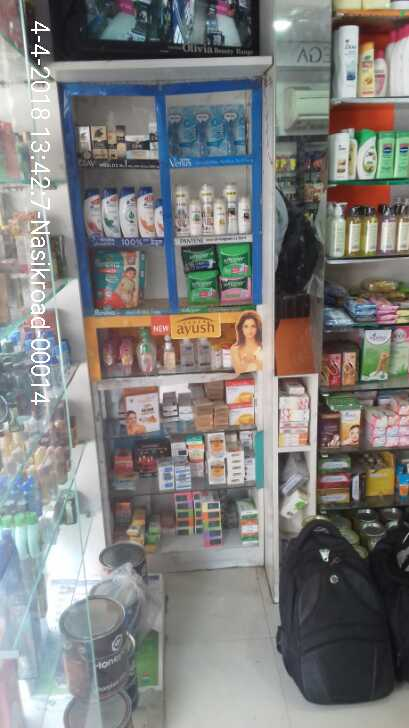venus: (189, 105, 218, 157), (218, 105, 246, 157), (169, 105, 189, 158)
